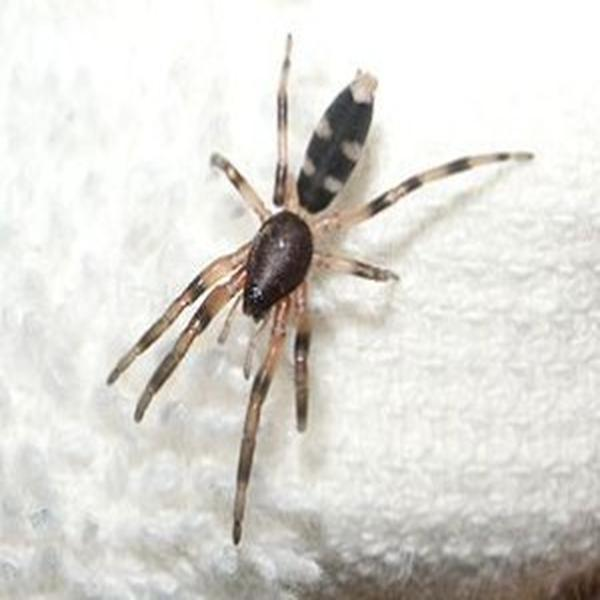White-Tailed Spider: (124, 48, 526, 535)
